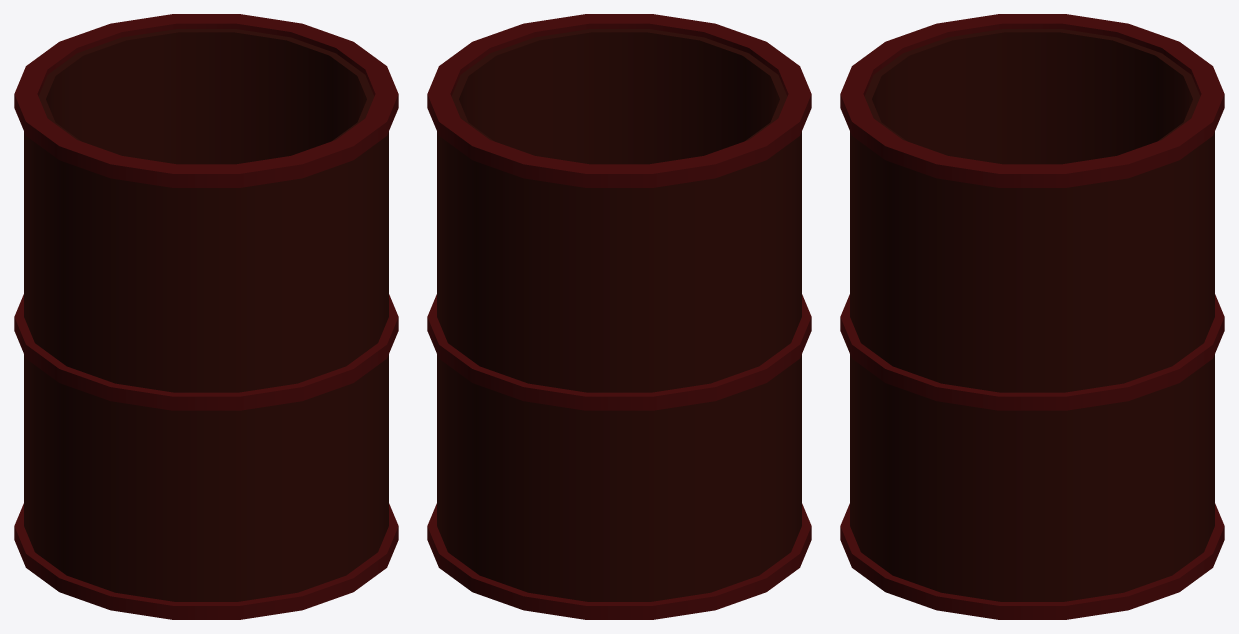
The model's file is Barrel.FBX.
3 renders of one model, left to right at view 1: azimuth 30°, elevation 25°; view 2: azimuth 150°, elevation 25°; view 3: azimuth 270°, elevation 25°, orthographic.
Visible parts, largest first — view 1: Tube001, Tube004, Tube003, Tube002; view 2: Tube001, Tube004, Tube003, Tube002; view 3: Tube001, Tube004, Tube003, Tube002.
Boxes of the visible parts, x1,y1,x2,y2 form: Tube001: (24,29,388,601); Tube004: (14,14,398,187); Tube003: (14,294,398,410); Tube002: (14,503,398,619); Tube001: (437,29,801,601); Tube004: (427,14,811,187); Tube003: (427,294,811,410); Tube002: (427,503,811,619); Tube001: (850,29,1214,601); Tube004: (840,14,1224,187); Tube003: (840,294,1224,410); Tube002: (840,503,1224,619).
Bounding box in the file's own units: 20.4 × 26.54 × 20.72.
